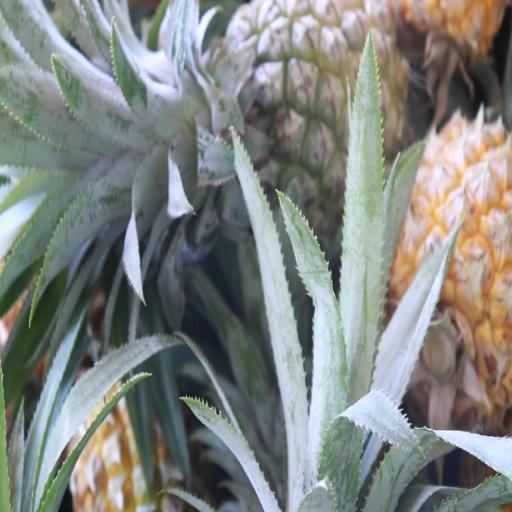Pineapple - v8 v1: (383, 128, 512, 427)
